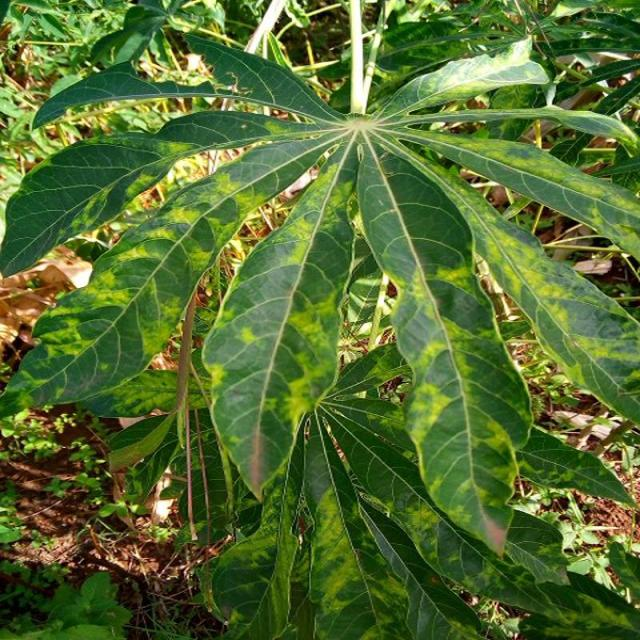cassava leaf: (0, 5, 638, 637), (354, 128, 534, 557), (200, 132, 358, 502)
